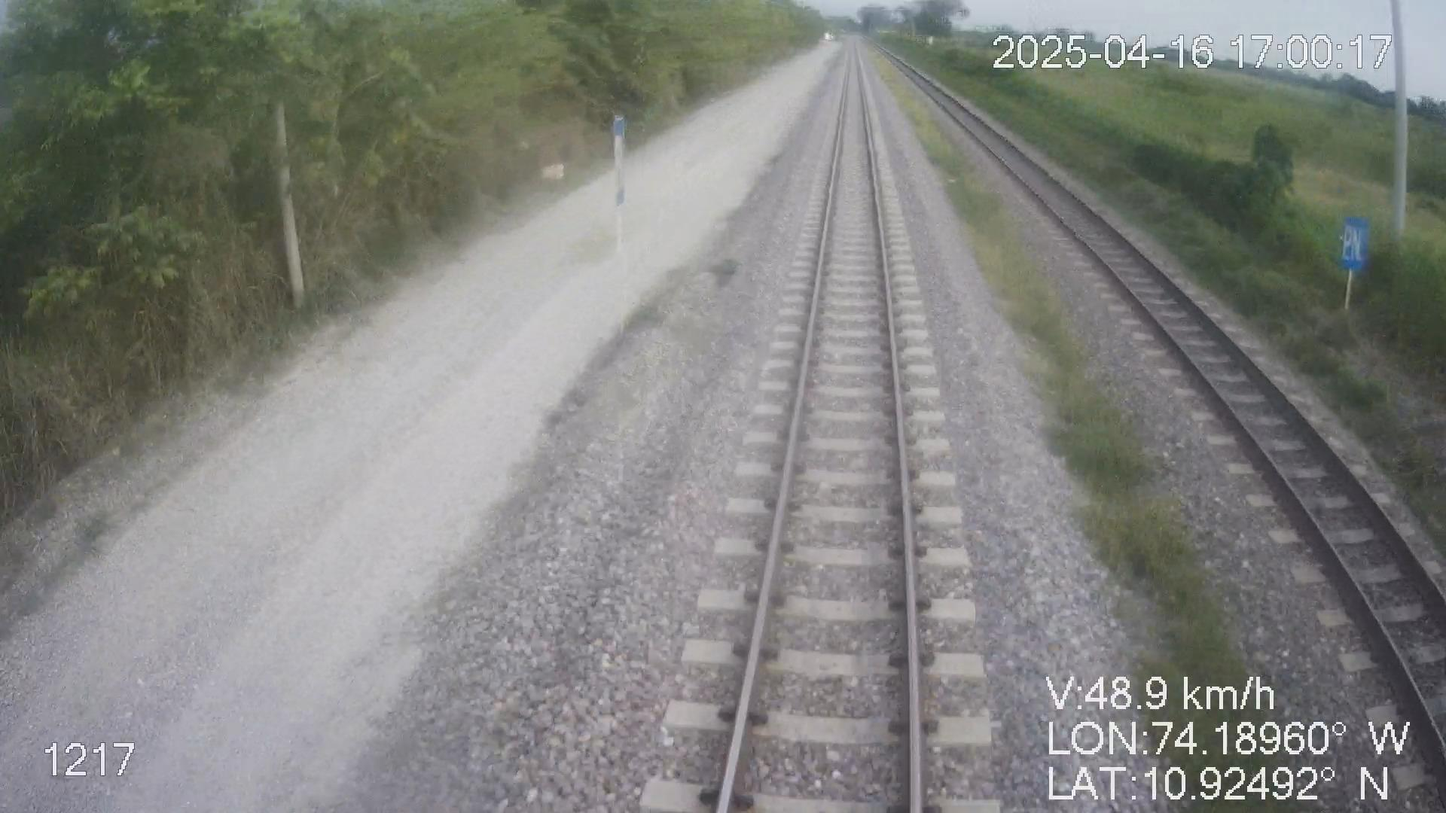Pasto: (0, 0, 823, 531), (861, 11, 1445, 589)
